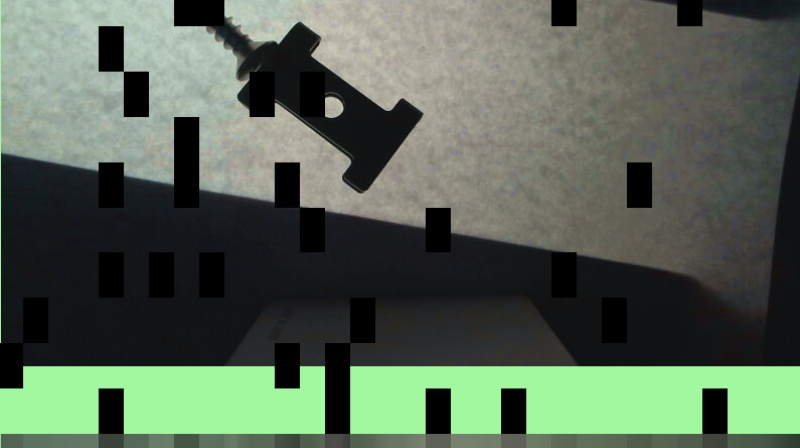O002: (238, 21, 425, 193)
S001: (140, 0, 280, 80)
